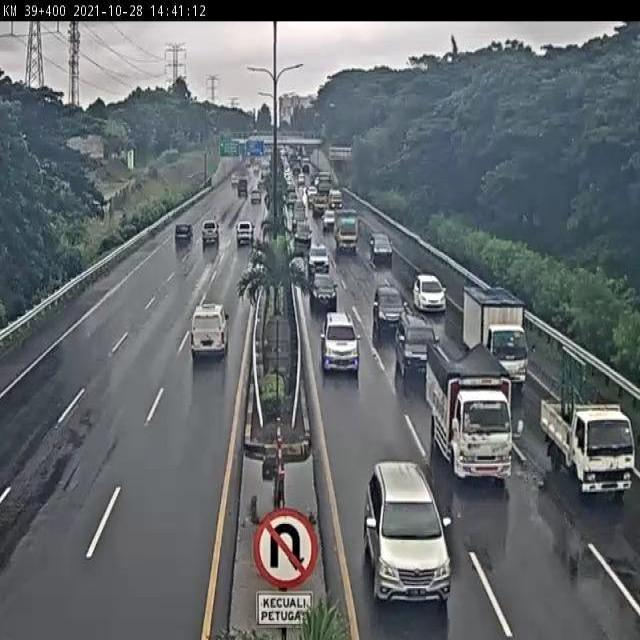car: (364, 462, 453, 606), (394, 315, 438, 380), (321, 309, 361, 372), (188, 303, 229, 364), (373, 287, 408, 333), (414, 275, 449, 316), (309, 269, 336, 308)
mid truck: (306, 240, 329, 272)
truck-m-: (426, 340, 515, 483)
truck-s-: (540, 396, 634, 496), (463, 286, 529, 394)
